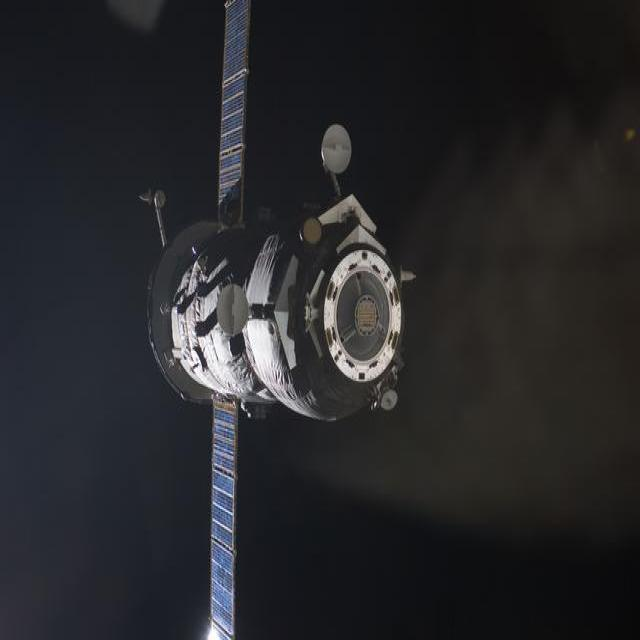satellite: (139, 0, 414, 638)
